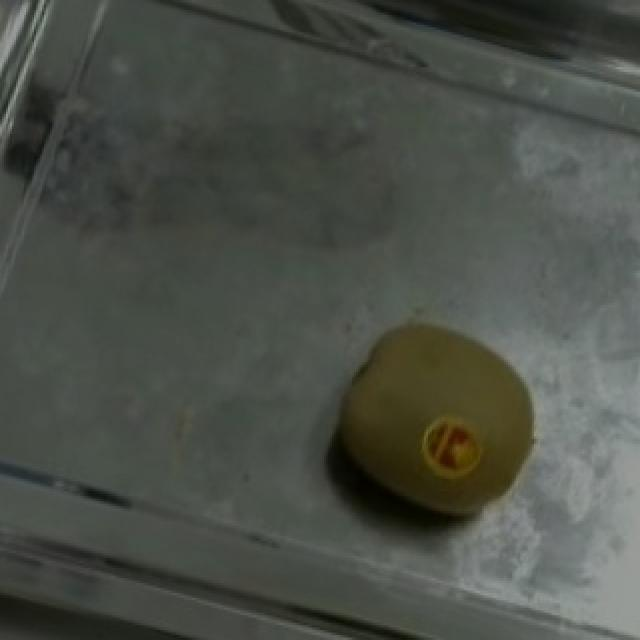Fruit: (300, 295, 570, 553)
